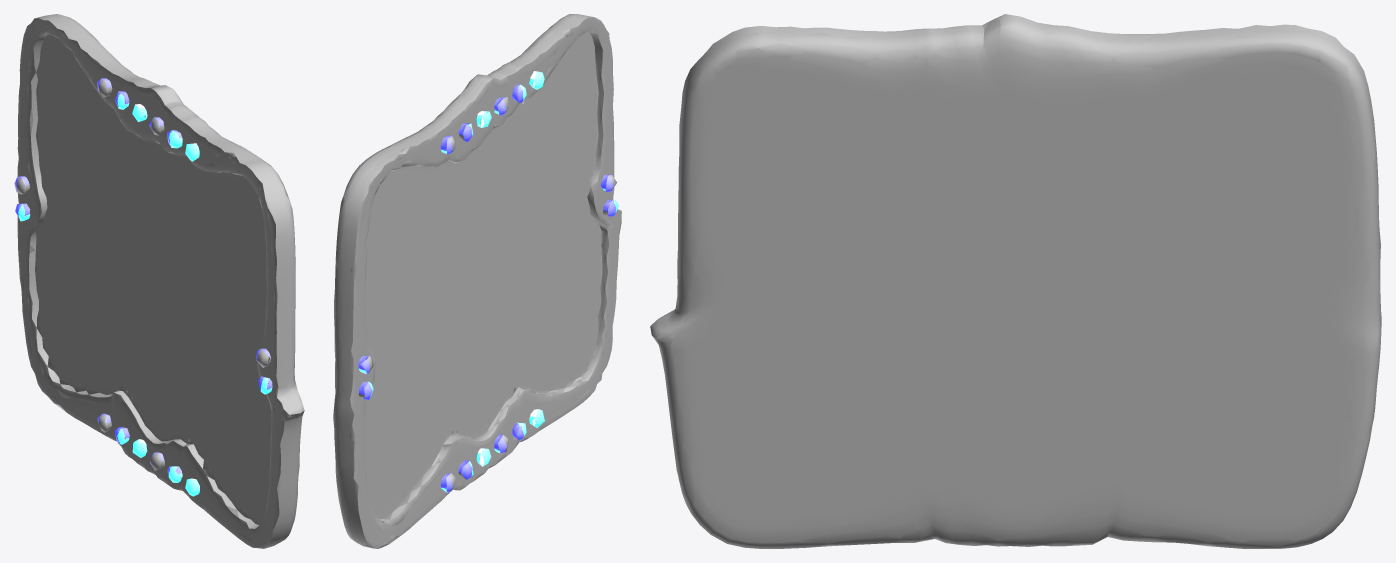
Rendered from SM_SignBoard_01b.fbx.
3 views of the same model, side by side, from view 1: azimuth 30°, elevation 25°; view 2: azimuth 150°, elevation 25°; view 3: azimuth 270°, elevation 25° (orthographic). The views are drawn at different scales.
Parts seen in each view (by area): view 1: SM_SignBoard_01b_LOD0; view 2: SM_SignBoard_01b_LOD0; view 3: SM_SignBoard_01b_LOD0.
Boxes of the visible parts, bbox=[...] form: SM_SignBoard_01b_LOD0: bbox=[14, 14, 304, 548]; SM_SignBoard_01b_LOD0: bbox=[333, 14, 621, 548]; SM_SignBoard_01b_LOD0: bbox=[650, 14, 1381, 548].
Size of the model in its own units: 7.26 by 98.15 by 77.74.
